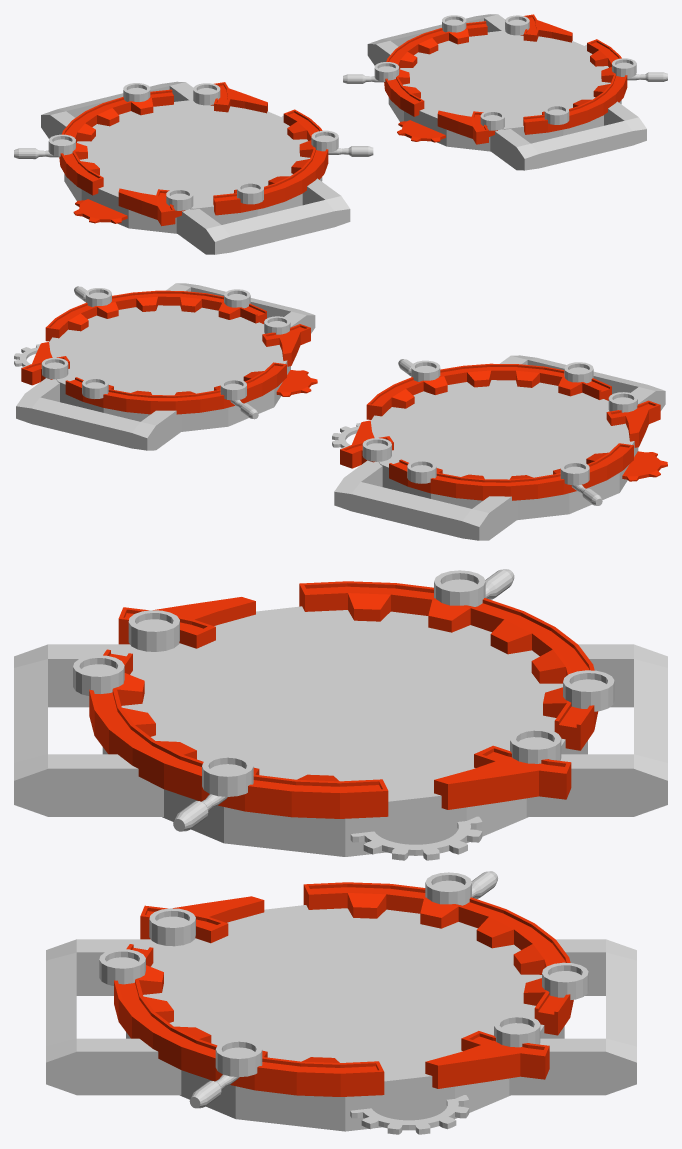
Rendered from 3dClock.obj.
3 views of the same model, one above another, from view 1: azimuth 30°, elevation 25°; view 2: azimuth 150°, elevation 25°; view 3: azimuth 270°, elevation 25° (orthographic). The views are drawn at different scales.
Parts seen in each view (by area): view 1: Cylinder.165, Cylinder.001, GearDefault.022, GearDefault.001; view 2: Cylinder.165, Cylinder.001, GearDefault.022, GearDefault.001; view 3: Cylinder.165, Cylinder.001, GearDefault.022, GearDefault.001.
Part boxes in pixels (x1=…): Cylinder.165: x1=14, y1=81, x2=373, y2=254; Cylinder.001: x1=343, y1=14, x2=667, y2=170; GearDefault.022: x1=59, y1=82, x2=328, y2=226; GearDefault.001: x1=384, y1=14, x2=627, y2=144; Cylinder.165: x1=332, y1=355, x2=665, y2=540; Cylinder.001: x1=14, y1=283, x2=315, y2=450; GearDefault.022: x1=340, y1=363, x2=667, y2=500; GearDefault.001: x1=21, y1=290, x2=317, y2=414; Cylinder.165: x1=14, y1=569, x2=667, y2=860; Cylinder.001: x1=46, y1=871, x2=636, y2=1134; GearDefault.022: x1=89, y1=581, x2=598, y2=818; GearDefault.001: x1=114, y1=882, x2=573, y2=1096.
Bounding box in the file's own units: 0.2079 × 0.0149 × 0.1091.
